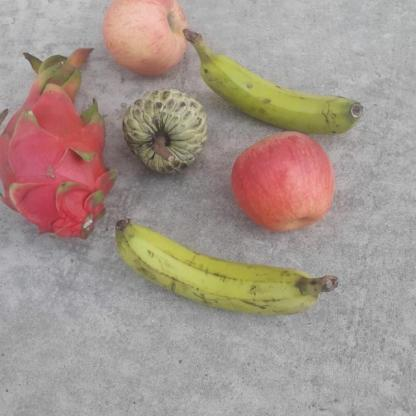annona: (120, 87, 210, 176)
apple: (229, 130, 337, 234), (100, 0, 189, 78)
banana: (114, 218, 338, 316), (183, 29, 364, 135)
pitaya: (0, 47, 117, 240)
